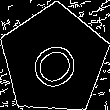O_NE: (22, 28, 86, 92)
